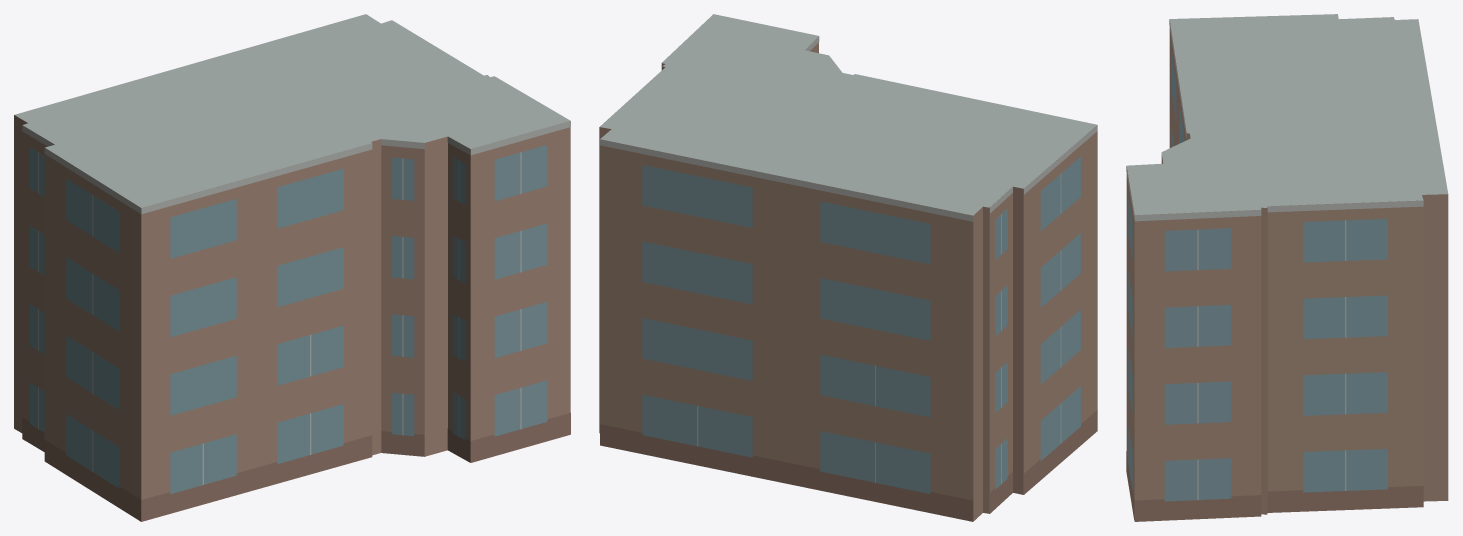
Rendered from survey-upis-32498629.glb.
The picture shows the model from 3 angles, left to right: view 1: azimuth 30°, elevation 25°; view 2: azimuth 150°, elevation 25°; view 3: azimuth 270°, elevation 25°; orthographic projection. The views are drawn at different scales.
Visible parts, largest first — view 1: survey-upis-32498629.tmp; view 2: survey-upis-32498629.tmp; view 3: survey-upis-32498629.tmp.
Boxes of the visible parts, box(x1,y1,x2,y2) form: survey-upis-32498629.tmp: box(14, 14, 570, 521); survey-upis-32498629.tmp: box(599, 14, 1097, 521); survey-upis-32498629.tmp: box(1126, 14, 1448, 521).
Bounding box in the file's own units: 17.18 × 12.2 × 11.61.
